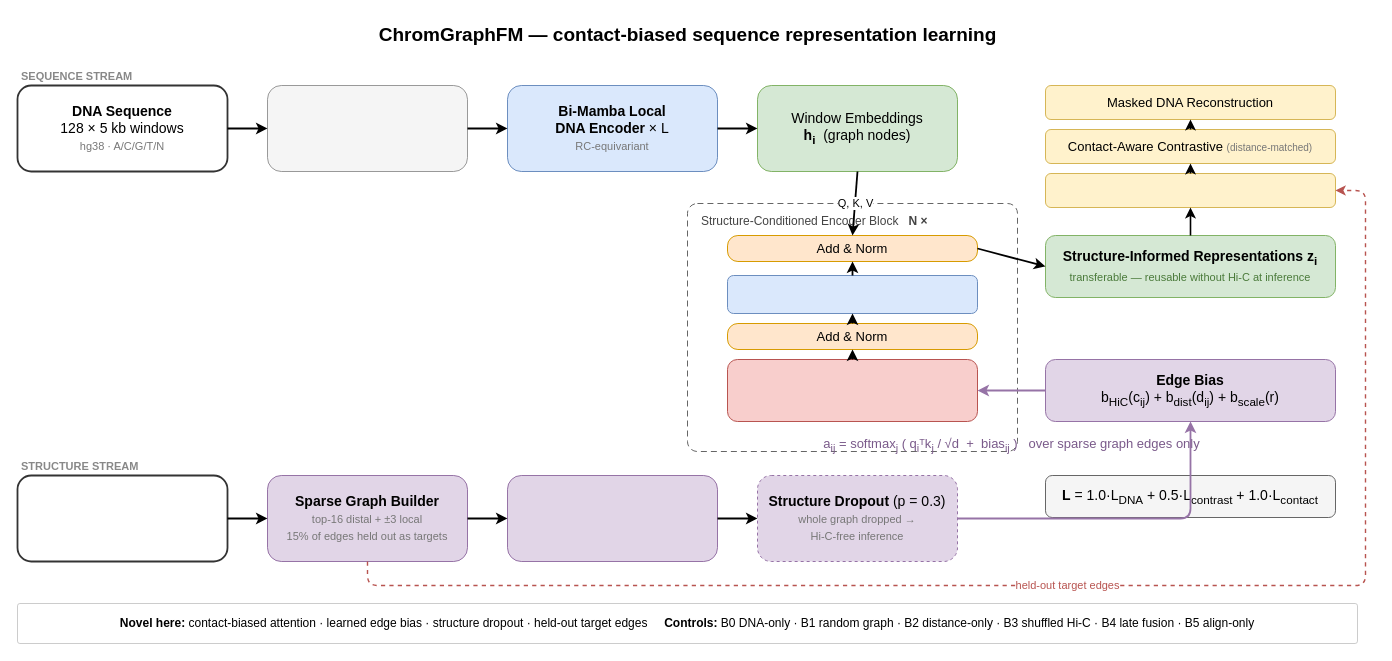
This 1392x661 diagram has some shape labels left out. Here are the shapes that lost their labels. From the top down, the centre of each, then its label:
At (x=367, y=128): "Nucleotide Embedding + Positional Encoding".
At (x=1190, y=190): "Contact Prediction (on held-out edges)".
At (x=852, y=294): "Feed Forward".
At (x=852, y=390): "Contact-Biased Multi-Head Attention".
At (x=122, y=518): "Hi-C Contact Map 5 kb bins, ICE-normalised 4DN / ENCODE".
At (x=612, y=518): "Edge Features c ij , d ij , r , cell type".
